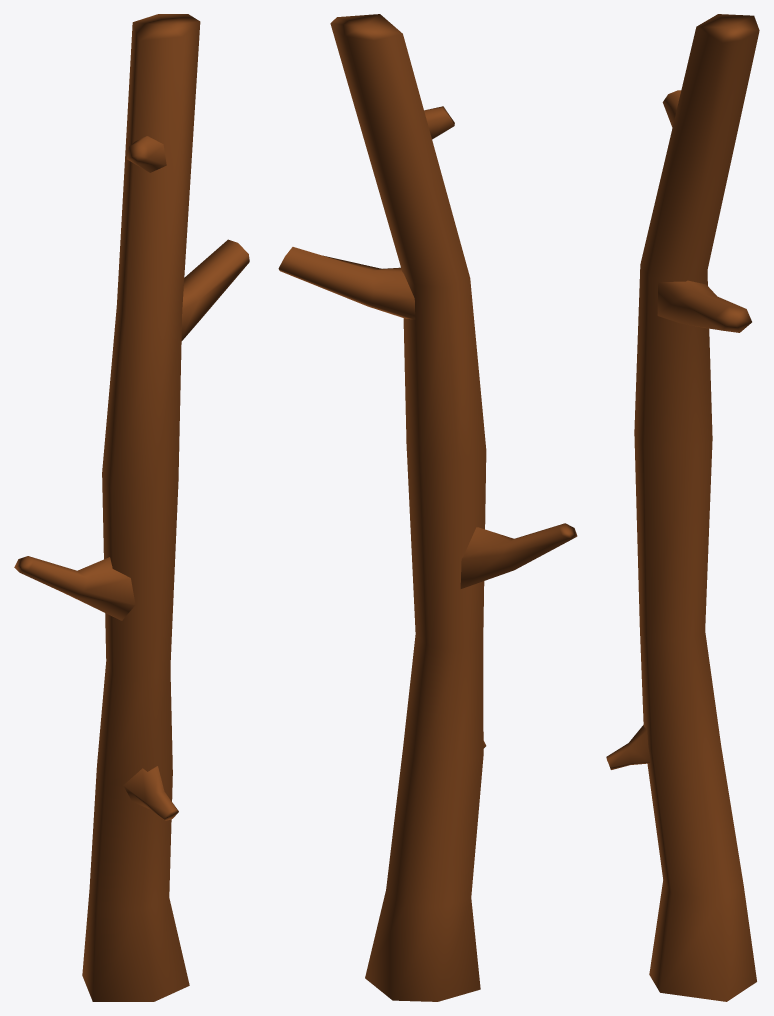
The model's file is branch4.fbx.
3 renders of one model, left to right at view 1: azimuth 30°, elevation 25°; view 2: azimuth 150°, elevation 25°; view 3: azimuth 270°, elevation 25°, orthographic. The views are drawn at different scales.
Parts seen in each view (by area): view 1: defaultMaterial.001; view 2: defaultMaterial.001; view 3: defaultMaterial.001.
Part boxes in pixels (<box>): defaultMaterial.001: <box>14,14,249,1001</box>; defaultMaterial.001: <box>278,14,577,1001</box>; defaultMaterial.001: <box>606,14,759,1001</box>.
Bounding box in the file's own units: 1.3 × 4.53 × 0.6435.
